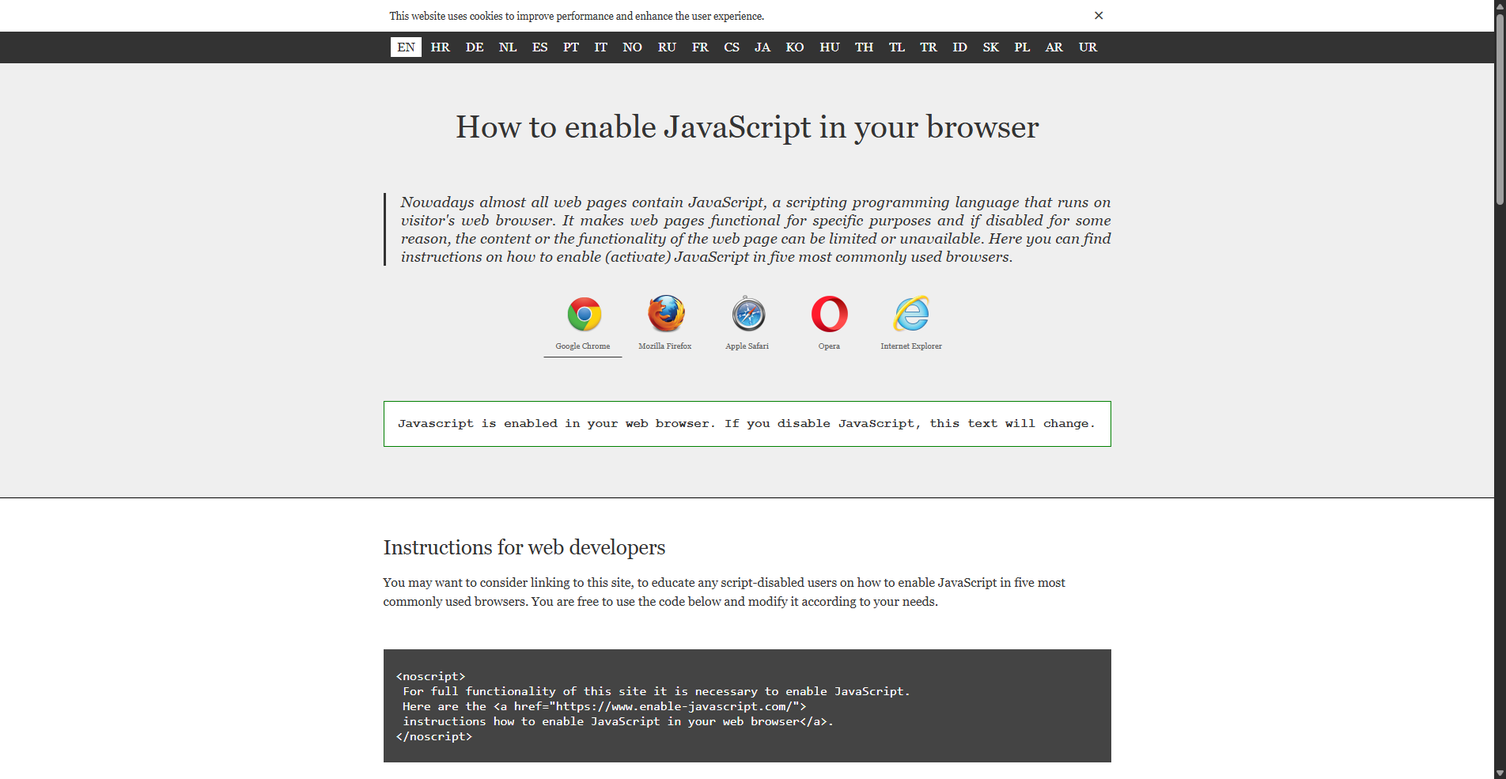link: (543, 278, 622, 358), (625, 278, 704, 358), (708, 278, 787, 358), (790, 278, 869, 358), (872, 278, 951, 358), (813, 37, 846, 57), (424, 37, 456, 57), (651, 37, 683, 57), (459, 37, 490, 57), (617, 37, 648, 57), (779, 37, 810, 57), (849, 37, 880, 57), (1072, 37, 1103, 57), (391, 37, 421, 57), (493, 37, 523, 57), (1039, 37, 1069, 57), (686, 37, 715, 57), (914, 37, 943, 57), (526, 37, 554, 57), (557, 37, 585, 57), (718, 37, 746, 57), (883, 37, 911, 57), (946, 37, 974, 57), (977, 37, 1005, 57), (1008, 37, 1036, 57), (749, 37, 776, 57), (588, 37, 614, 57), (1093, 6, 1105, 23)
